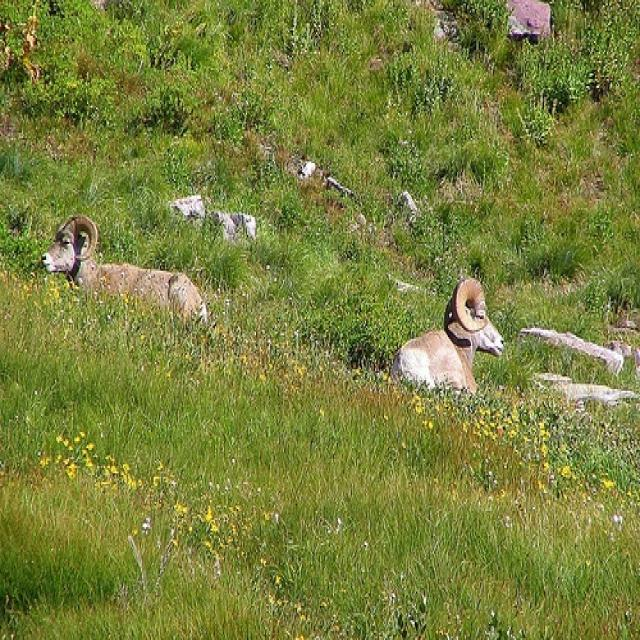sheep: (41, 213, 209, 321), (389, 274, 504, 394)
